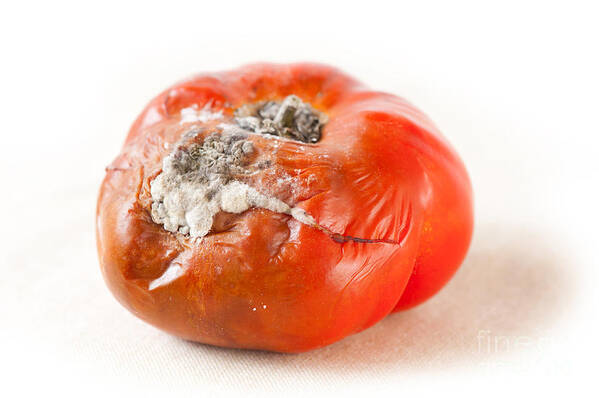rotten tomato: (93, 63, 488, 352)
